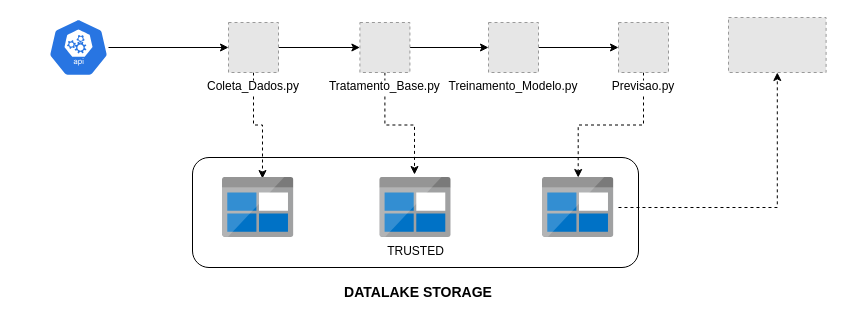
The diagram is 844 pixels wide and 325 high, and some of its shapes have lost their labels. Grey dashed boxes stand in for pictures. The box of each missing label's shape, as (x1, y1, x2, y2) in pixels:
API v3.football.api-sports.io: (48, 16, 108, 78)
RAW: (222, 177, 293, 237)
REFINED: (542, 177, 613, 237)
